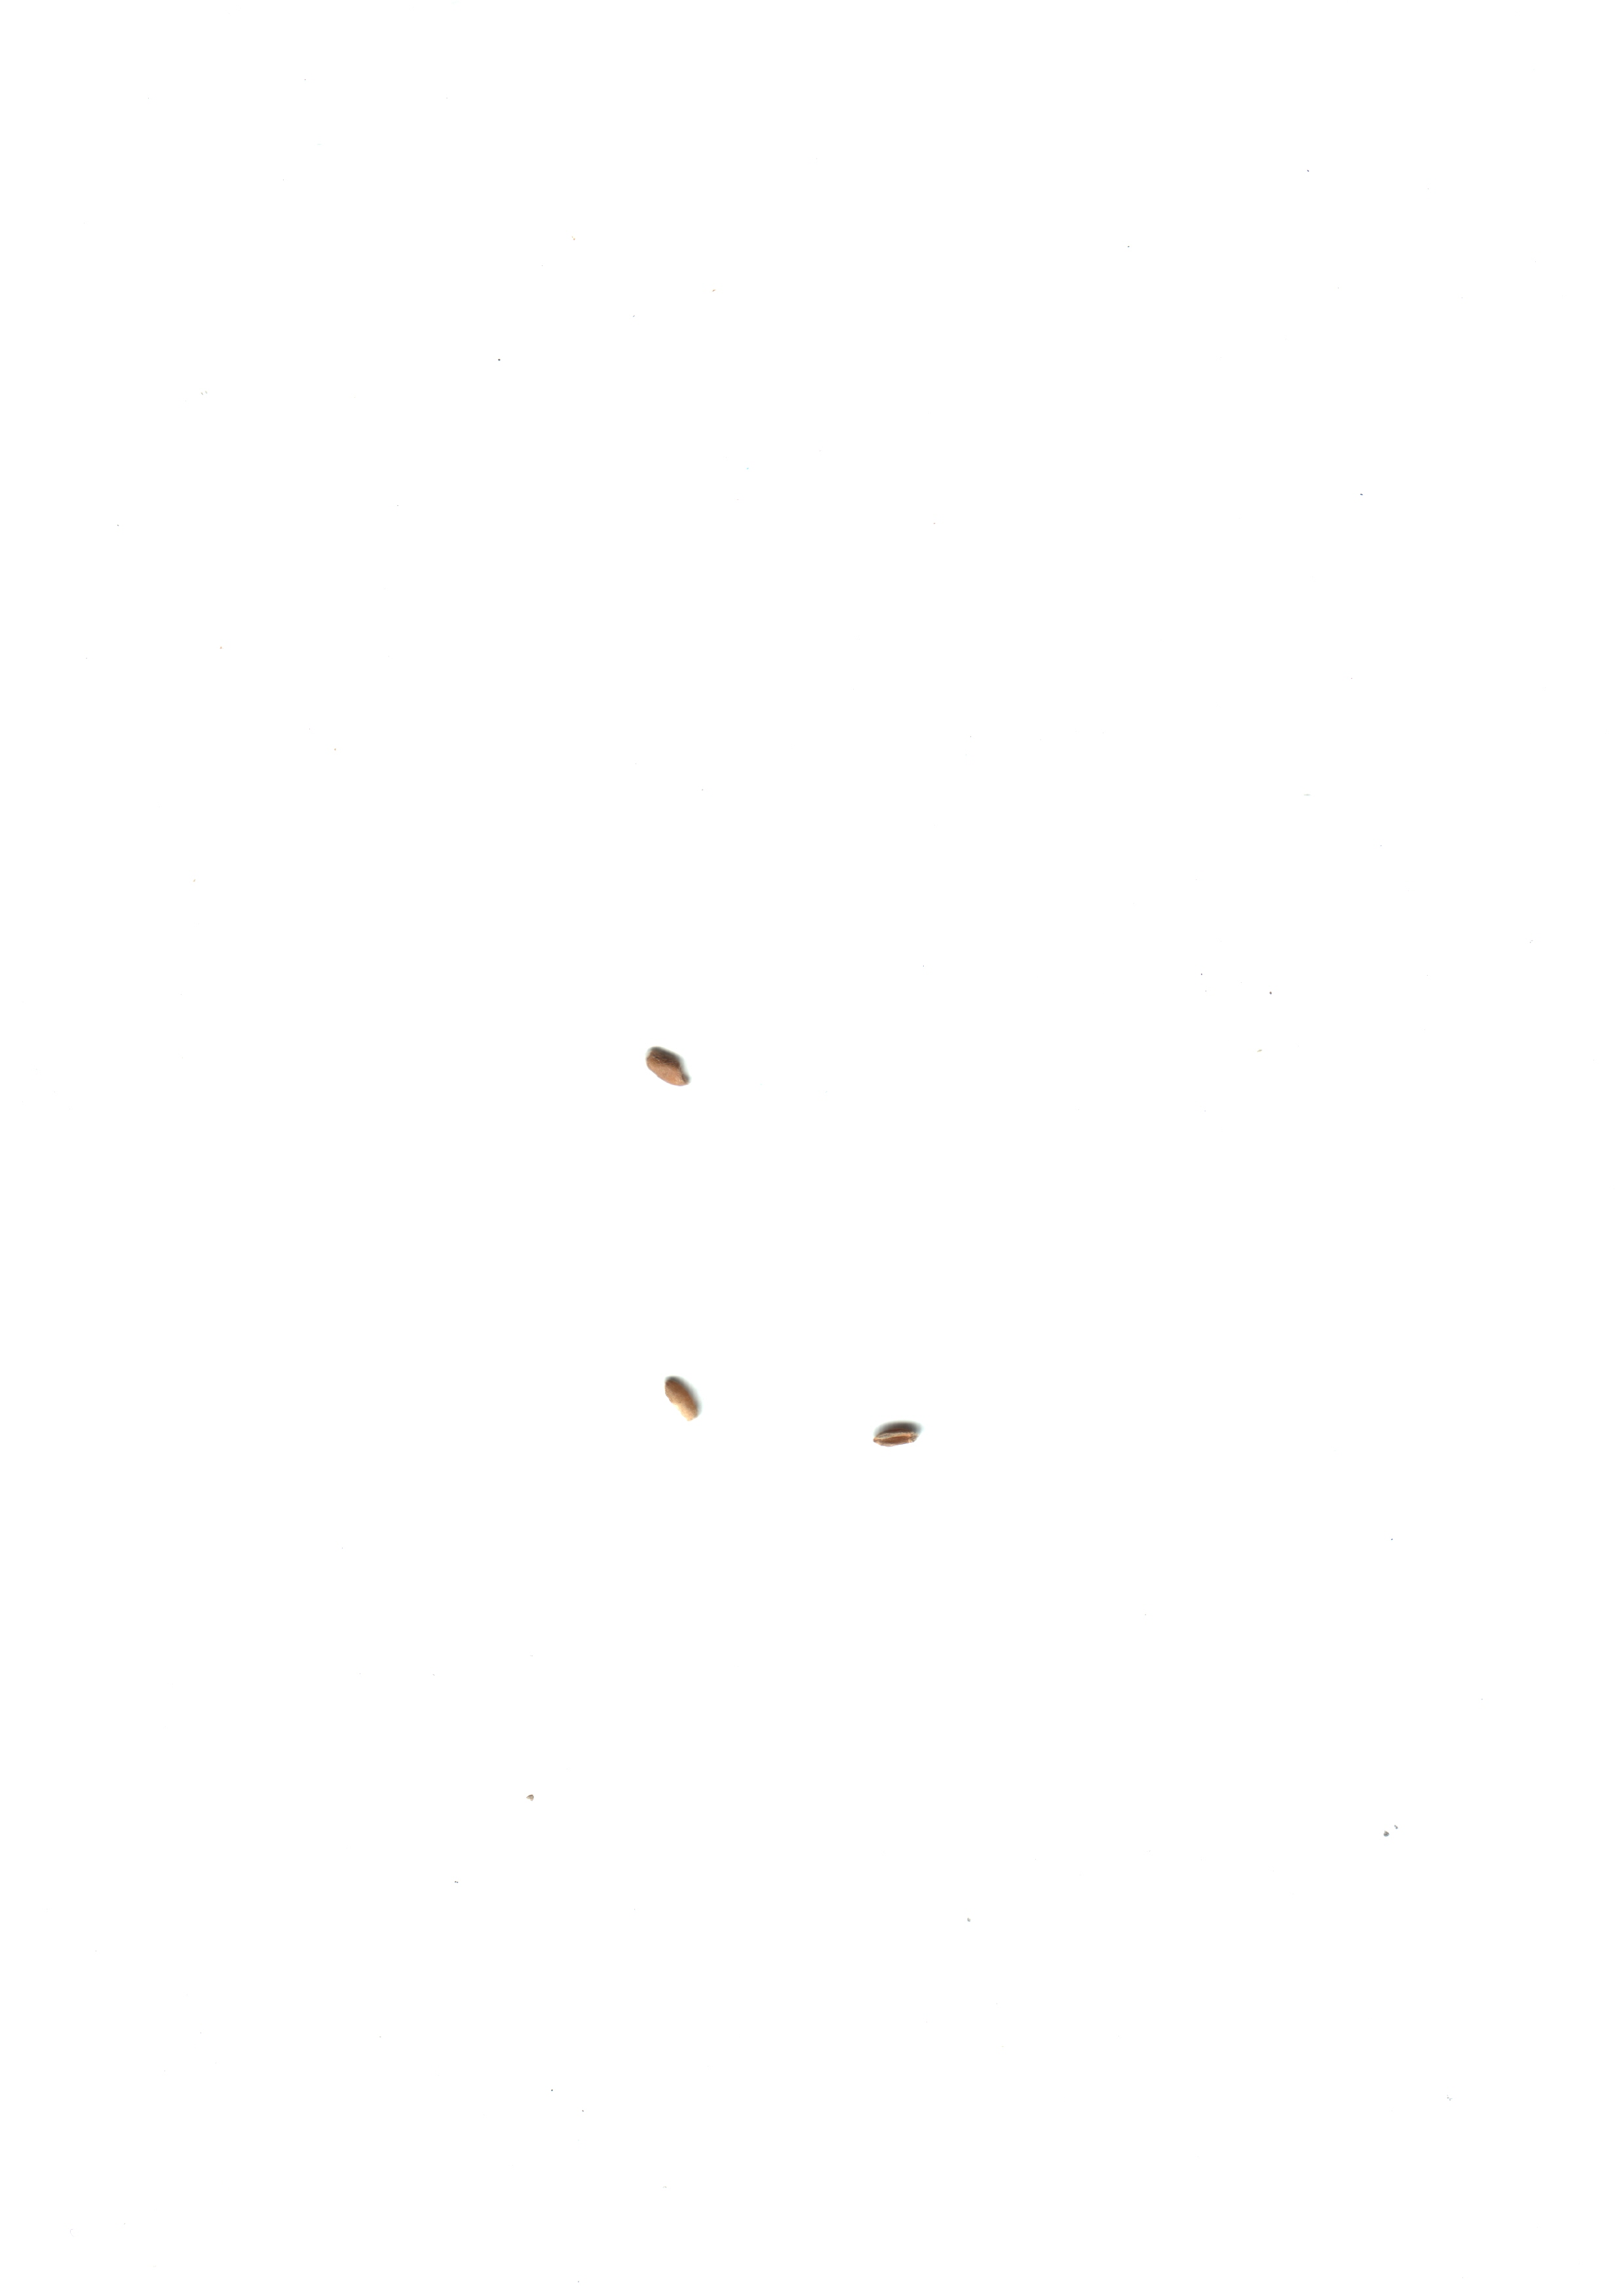grains_2mm: (853, 1392, 936, 1470), (640, 1353, 722, 1432), (626, 1025, 706, 1104)
